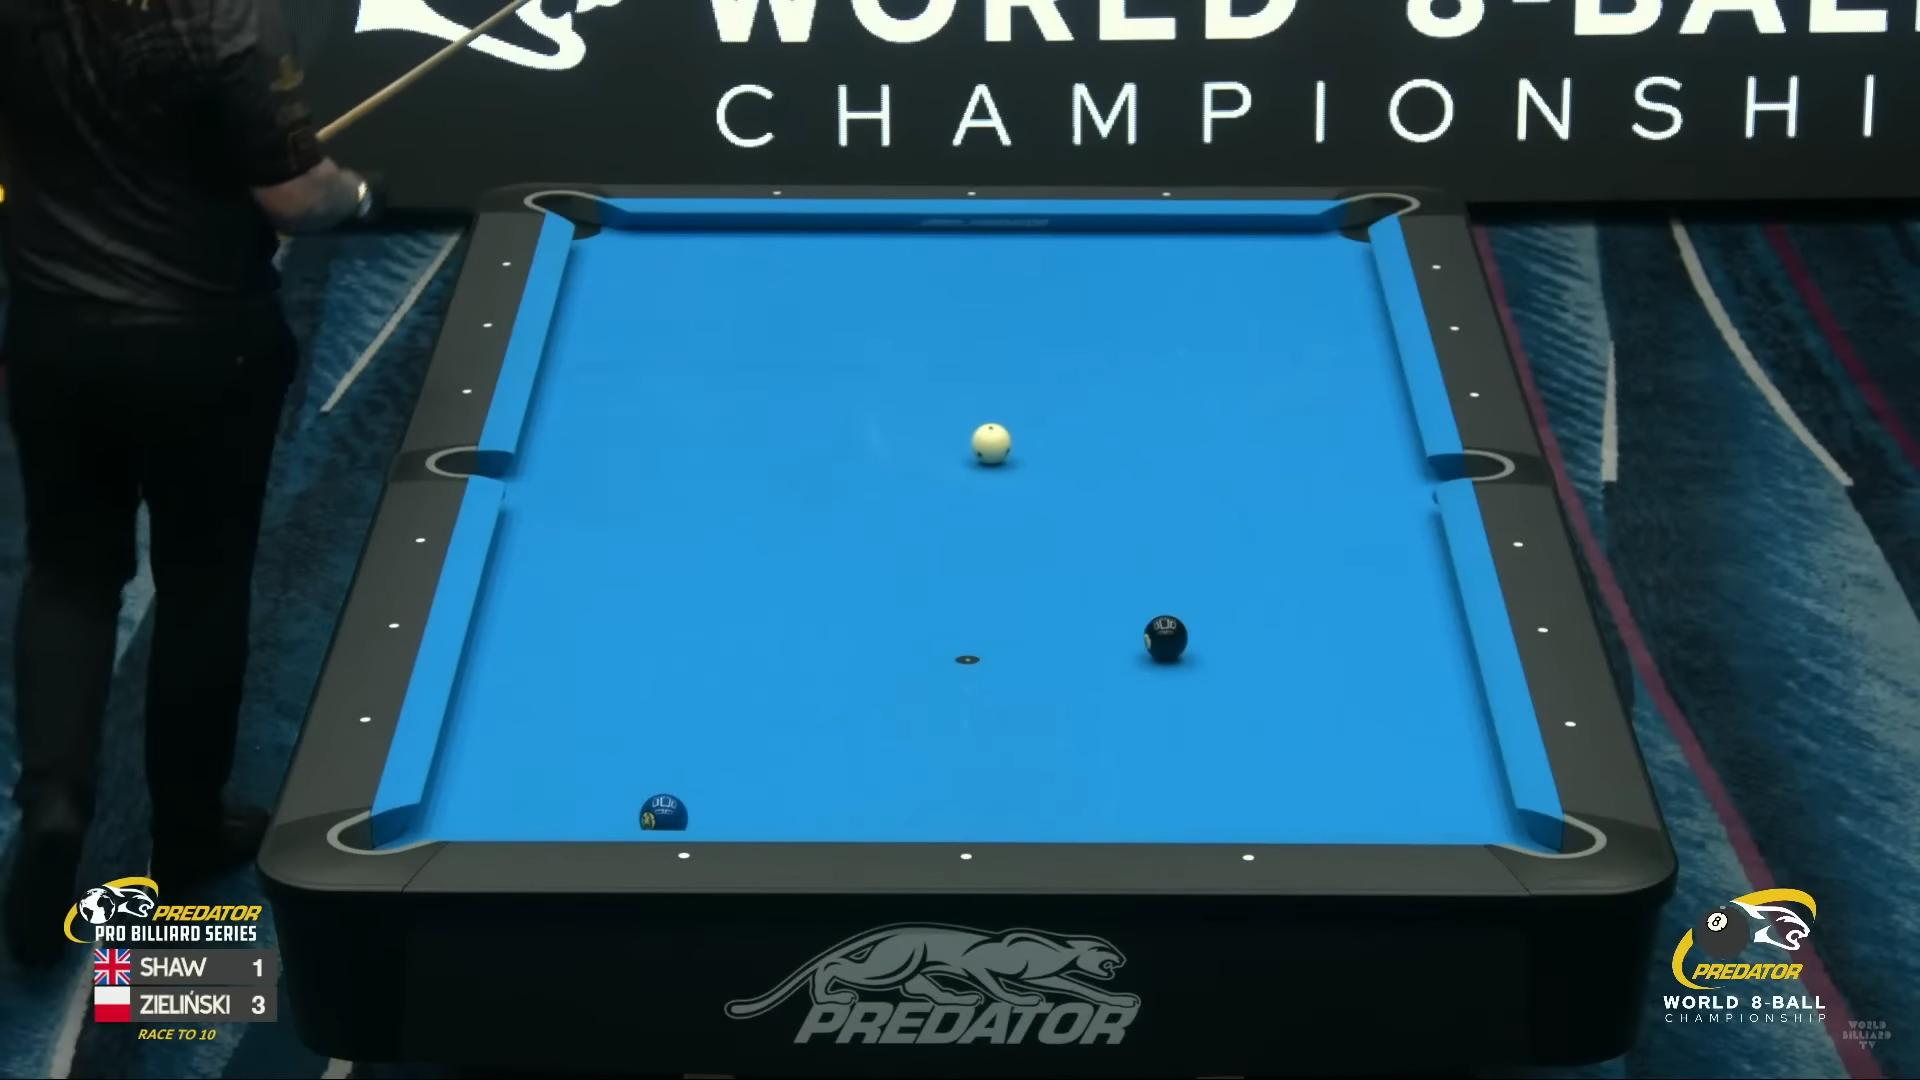Black: (1143, 615, 1189, 659)
Cue: (972, 423, 1013, 465)
Dot: (414, 533, 429, 547), (480, 318, 495, 332), (770, 186, 785, 200), (965, 186, 980, 200), (1429, 260, 1444, 274), (1564, 717, 1578, 732), (1240, 851, 1254, 865), (356, 713, 371, 727), (386, 620, 401, 633), (500, 257, 513, 272), (1159, 187, 1174, 200), (1448, 322, 1462, 335), (1468, 386, 1481, 401), (1536, 624, 1549, 638), (957, 848, 971, 862), (676, 848, 690, 862), (462, 385, 475, 398), (1511, 538, 1524, 551)
Solid: (641, 794, 690, 832)
